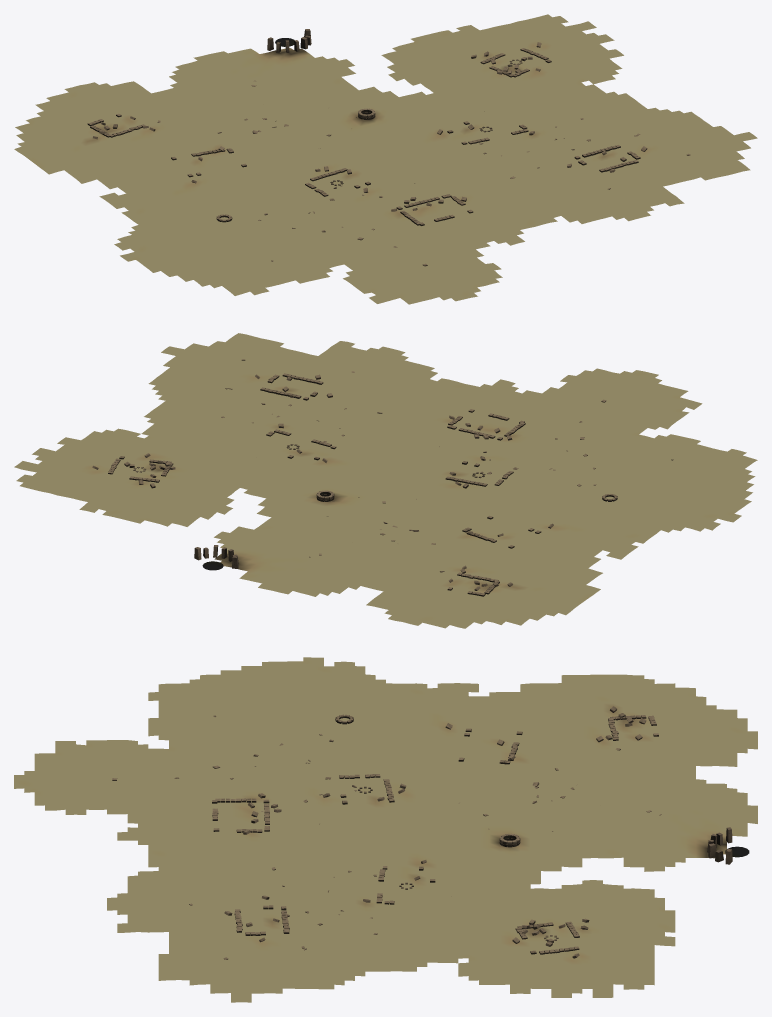
The picture shows the model from 3 angles, top to bottom: view 1: azimuth 30°, elevation 25°; view 2: azimuth 150°, elevation 25°; view 3: azimuth 270°, elevation 25°; orthographic projection. The views are drawn at different scales.
Visible parts, largest first — view 1: sediment, houses; view 2: sediment, houses; view 3: sediment, houses, megaliths.
Boxes of the visible parts, x1=… form: sediment: x1=14, y1=14, x2=757, y2=304; houses: x1=87, y1=42, x2=647, y2=225; sediment: x1=14, y1=333, x2=757, y2=628; houses: x1=92, y1=373, x2=553, y2=596; sediment: x1=14, y1=657, x2=757, y2=1002; houses: x1=212, y1=706, x2=658, y2=958; megaliths: x1=707, y1=827, x2=732, y2=864.
Bounding box in the file's own units: 79 × 1.68 × 72.
Materials: 4 (2 with a texture image).
